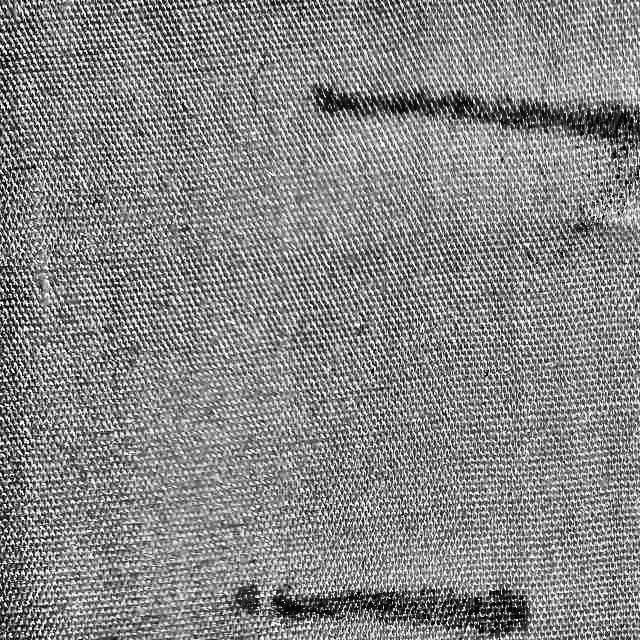Thread_other: (286, 54, 640, 188), (211, 559, 556, 640)
